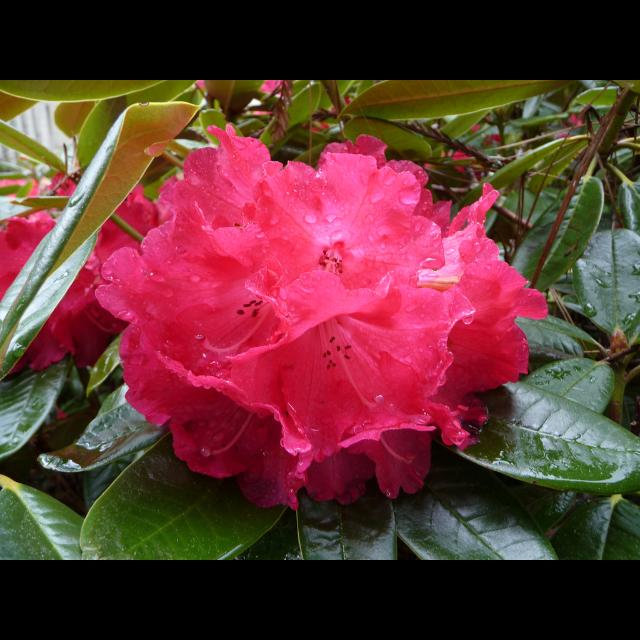Flower: (90, 136, 548, 484), (0, 166, 122, 378)
